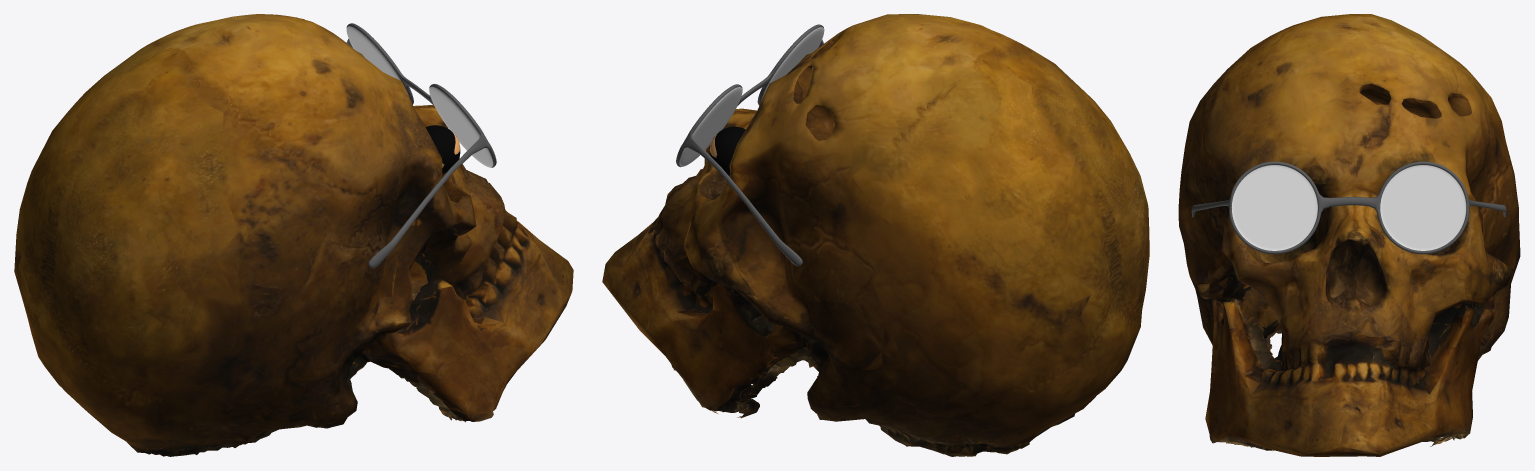
File: sawyer.fbx
The picture shows the model from 3 angles, left to right: view 1: azimuth 30°, elevation 25°; view 2: azimuth 150°, elevation 25°; view 3: azimuth 270°, elevation 25°; orthographic projection. The views are drawn at different scales.
Visible parts, largest first — view 1: Skull, Circle, Eyeball_Right.001; view 2: Skull, Circle, Eyeball_Right; view 3: Skull, Circle.
Boxes of the visible parts, x1,y1,x2,y2 form: Skull: (14, 14, 573, 456); Circle: (346, 23, 496, 268); Eyeball_Right.001: (425, 125, 460, 174); Skull: (602, 14, 1149, 456); Circle: (676, 24, 824, 266); Eyeball_Right: (709, 126, 745, 175); Skull: (1178, 14, 1520, 456); Circle: (1191, 161, 1506, 254).
Size of the model in its own units: 357 by 253 by 227.
